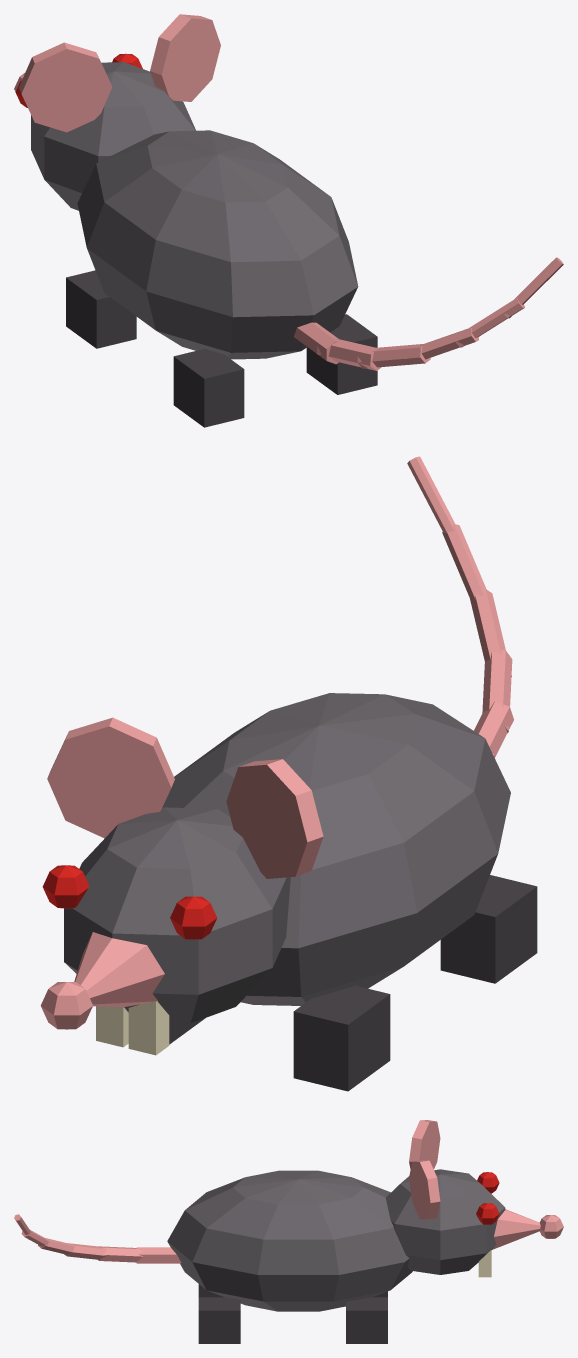
The model's file is enemy_rat.glb.
3 renders of one model, top to bottom at view 1: azimuth 30°, elevation 25°; view 2: azimuth 150°, elevation 25°; view 3: azimuth 270°, elevation 25°, orthographic. The views are drawn at different scales.
Visible parts, largest first — view 1: enemy_rat; view 2: enemy_rat; view 3: enemy_rat.
Part boxes in pixels (left/top/right/bottom): enemy_rat: left=14, top=14, right=563, bottom=427; enemy_rat: left=40, top=456, right=537, bottom=1091; enemy_rat: left=14, top=1120, right=563, bottom=1343.
Size of the model in its own units: 0.362 by 0.365 by 1.05.
Materials: 1 (1 with a texture image).
